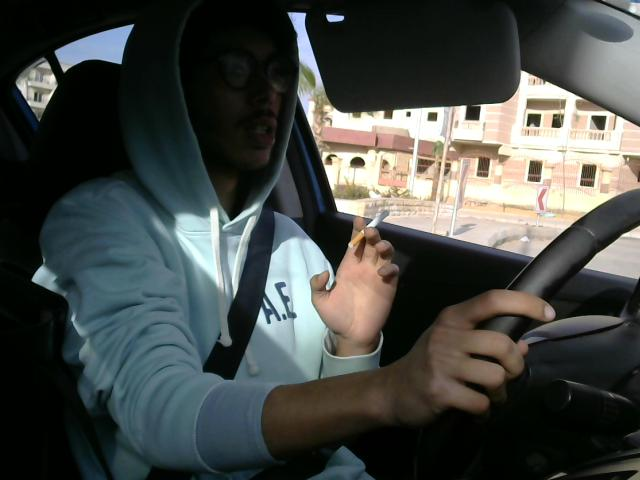Smoking: (342, 203, 397, 256)
